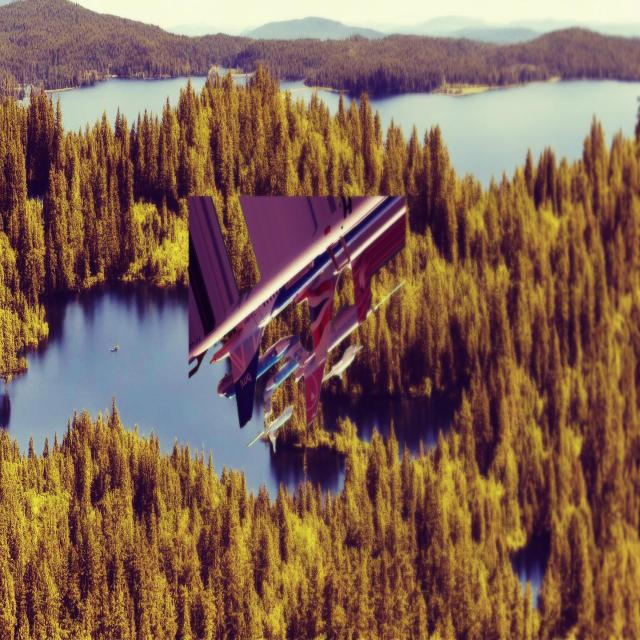airplane: (187, 192, 407, 429), (246, 403, 294, 454)
